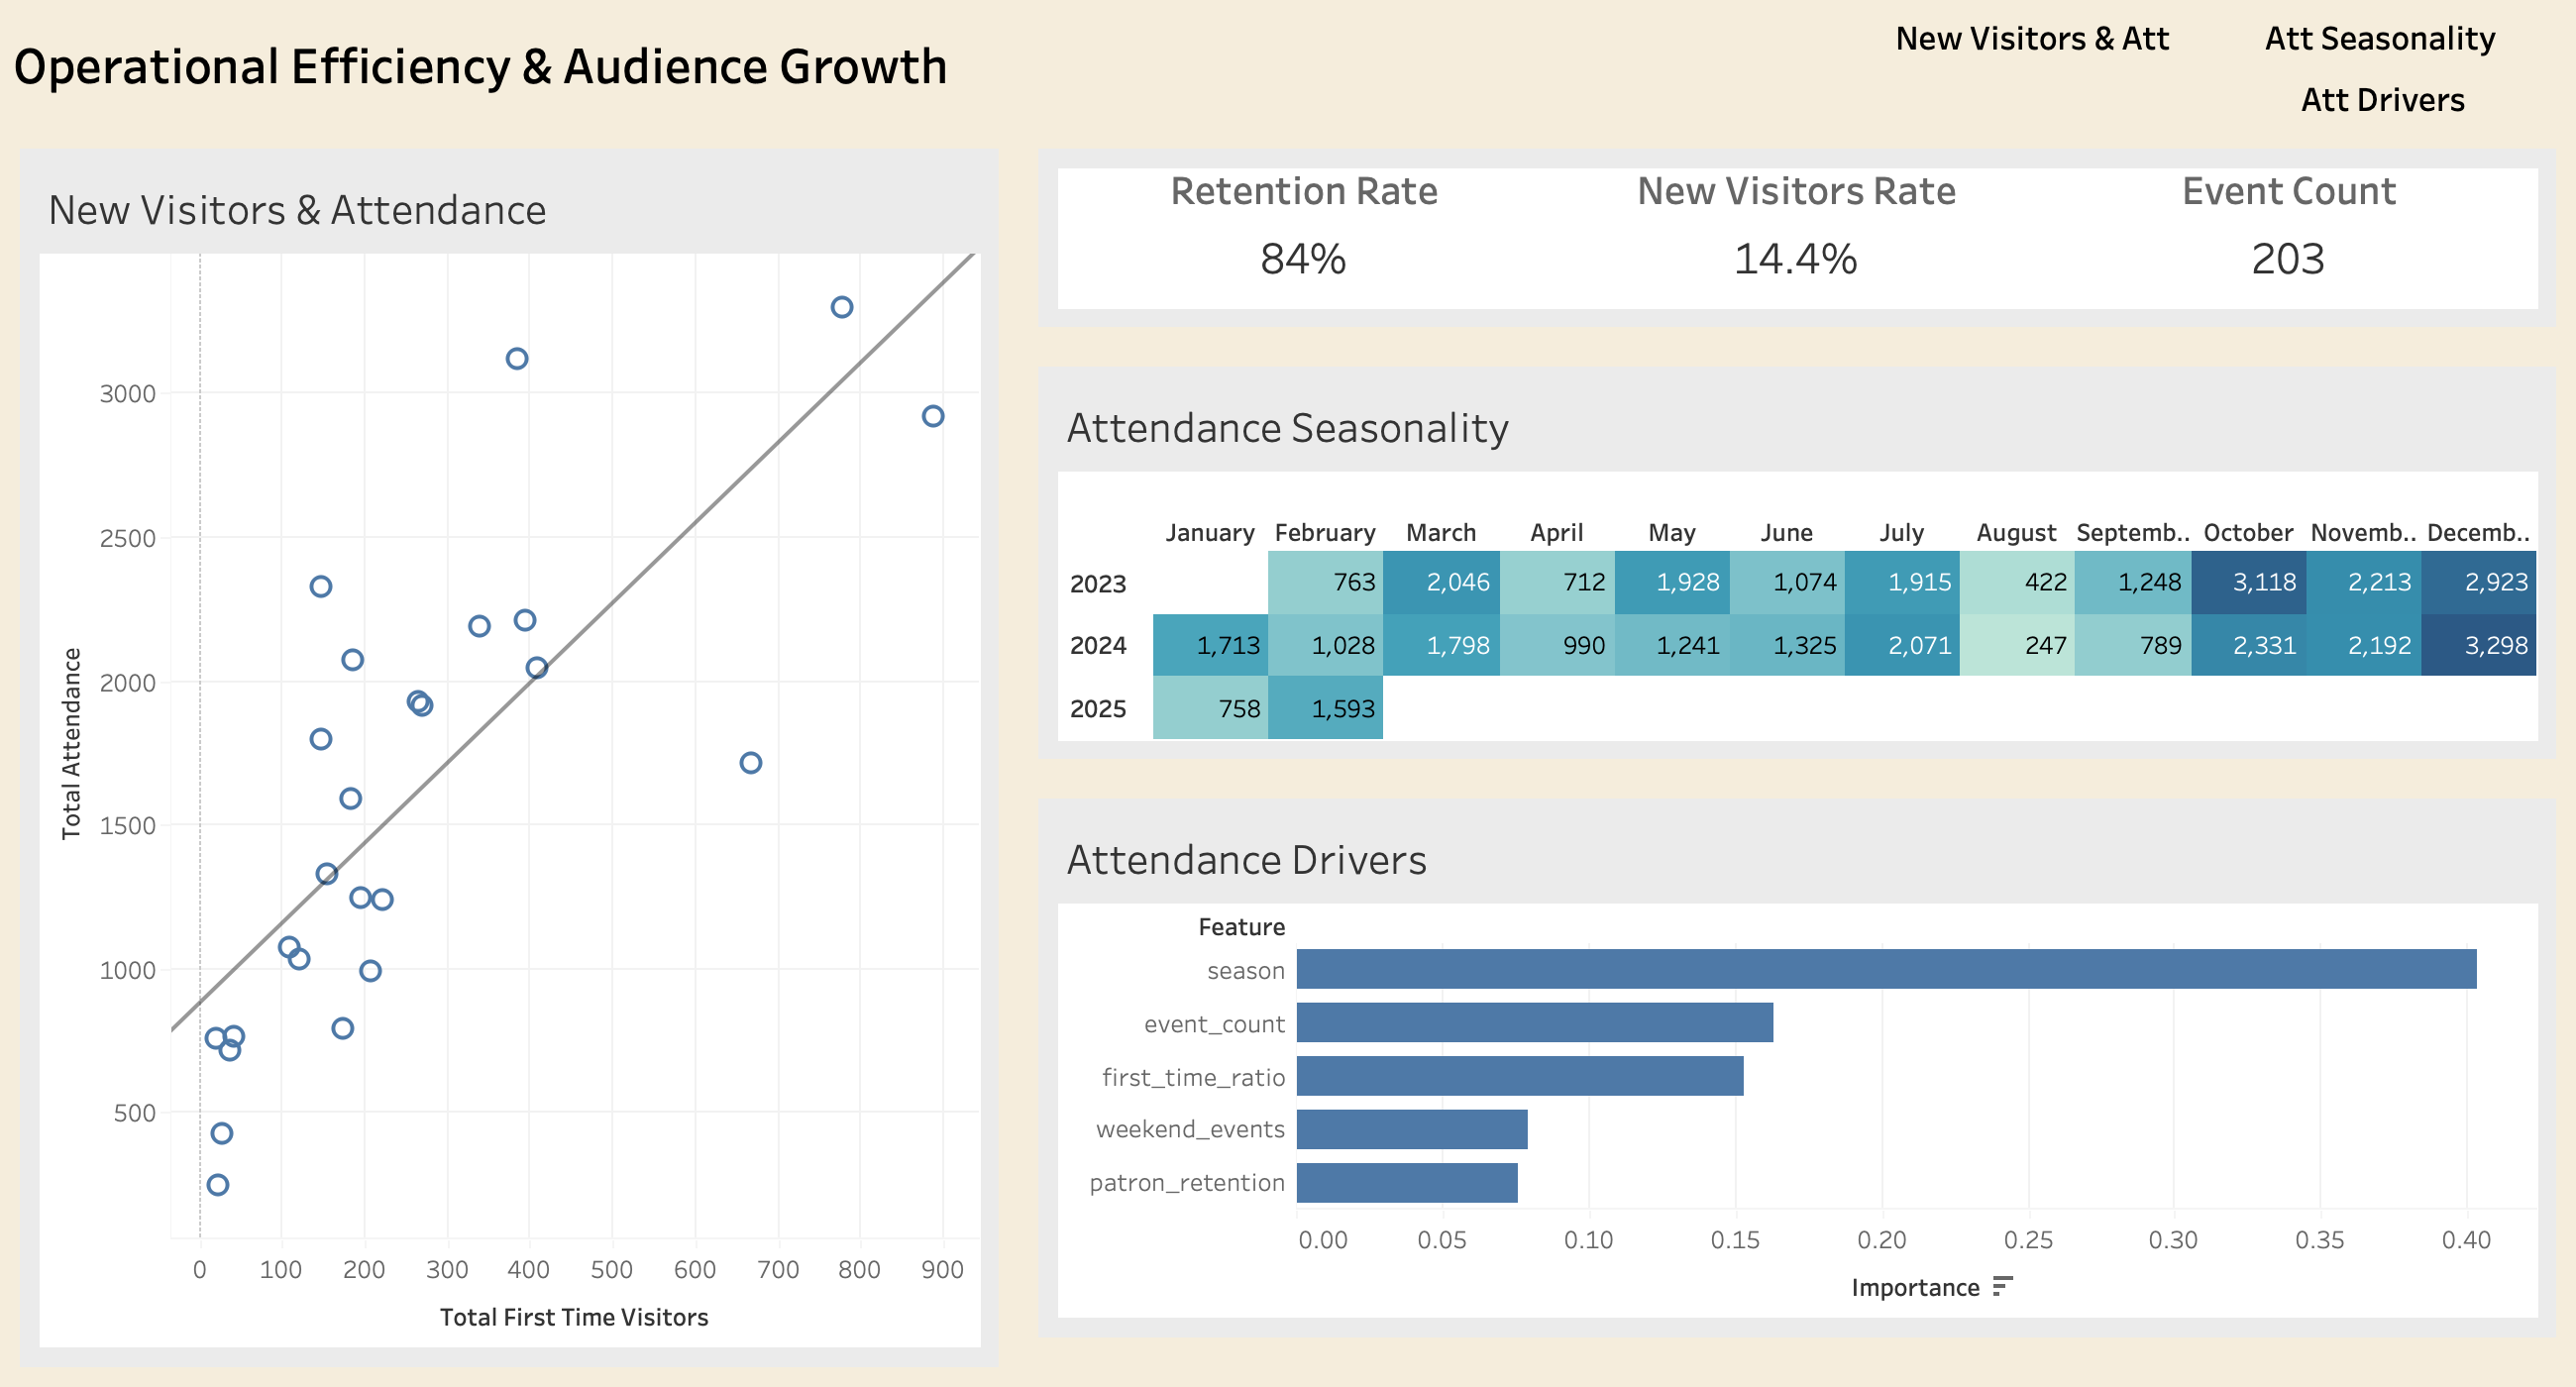

The page's visual inventory and layout, read from the dashboard file:
{"tool":"tableau","page":{"name":"1_attendance_growth_analysis","canvas":[1300,700],"ordinal":0},"visuals":[{"type":"text","box":[0,0,1300,65]},{"type":"dashboard-object","box":[930,6,192,26]},{"type":"dashboard-object","box":[1127,6,149,26]},{"type":"dashboard-object","box":[1128,35,150,29]},{"type":"worksheet","title":"New Visitors and Attendanc","mark":"Automatic","rows":["total_attendance"],"cols":["total_first_time_visitors"],"box":[0,65,514,635]},{"type":"worksheet","title":"KPIs attendance","mark":"Automatic","box":[514,65,786,110]},{"type":"text","box":[851,138,226,116]},{"type":"worksheet","title":"Attendance Seasonality","mark":"Square","rows":["month"],"cols":["month"],"box":[514,175,786,218]},{"type":"worksheet","title":"Attendance Drivers","mark":"Automatic","rows":["feature"],"cols":["importance"],"box":[514,393,786,292]},{"type":"text","box":[763,393,441,62]},{"type":"text","box":[124,531,366,93]}]}

Visuals, with their boxes in screenshot pixels (x1, y1, x2, y2), scaled from the page's 1300x700 canvas onto the 2576x1387 screenshot:
text: 0,0,2575,129
dashboard-object: 1843,12,2223,63
dashboard-object: 2233,12,2528,63
dashboard-object: 2235,69,2532,127
"New Visitors and Attendanc" worksheet: 0,129,1019,1386
"KPIs attendance" worksheet: 1019,129,2575,347
text: 1686,273,2134,503
"Attendance Seasonality" worksheet (Square marks): 1019,347,2575,779
"Attendance Drivers" worksheet: 1019,779,2575,1357
text: 1512,779,2386,902
text: 246,1052,971,1236
